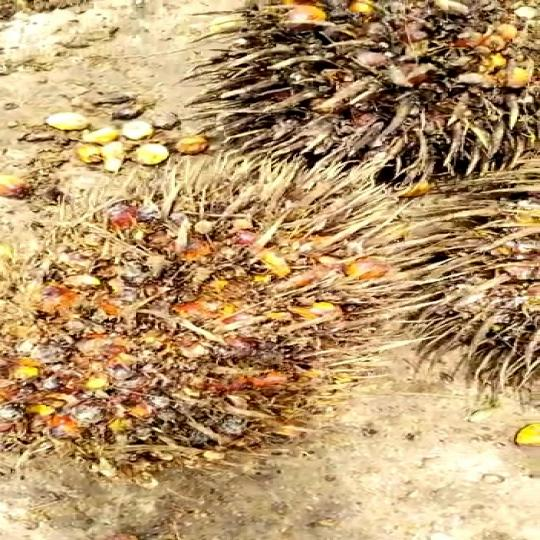terlalu masak: (0, 150, 447, 478)
